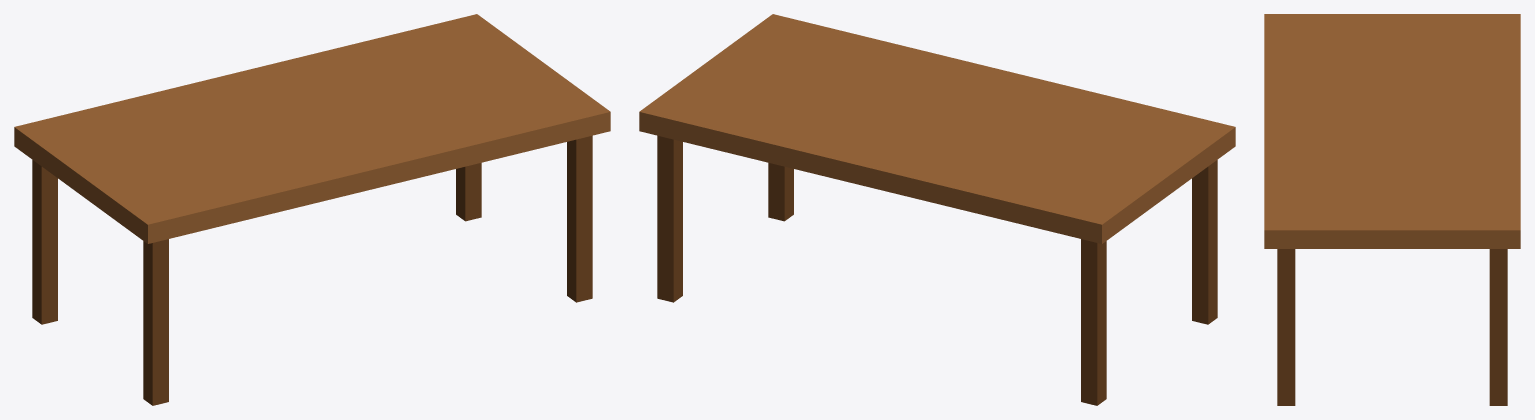
The model's file is th-table.glb.
The picture shows the model from 3 angles, left to right: view 1: azimuth 30°, elevation 25°; view 2: azimuth 150°, elevation 25°; view 3: azimuth 270°, elevation 25°; orthographic projection. The views are drawn at different scales.
Parts seen in each view (by area): view 1: box-prop; view 2: box-prop; view 3: box-prop.
Boxes of the visible parts, x1,y1,x2,y2 form: box-prop: (14, 14, 610, 405); box-prop: (639, 14, 1235, 405); box-prop: (1264, 14, 1520, 405).
Bounding box in the file's own units: 2 × 0.78 × 1.
